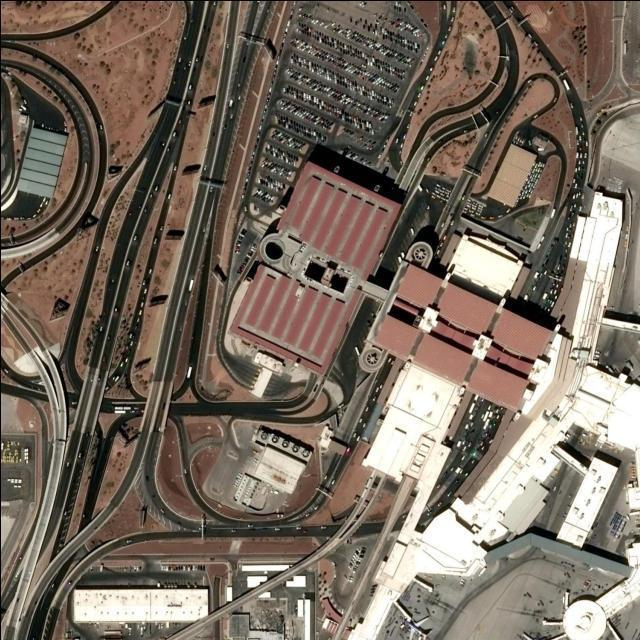Aircraft: (405, 613, 433, 640), (518, 630, 548, 640)
